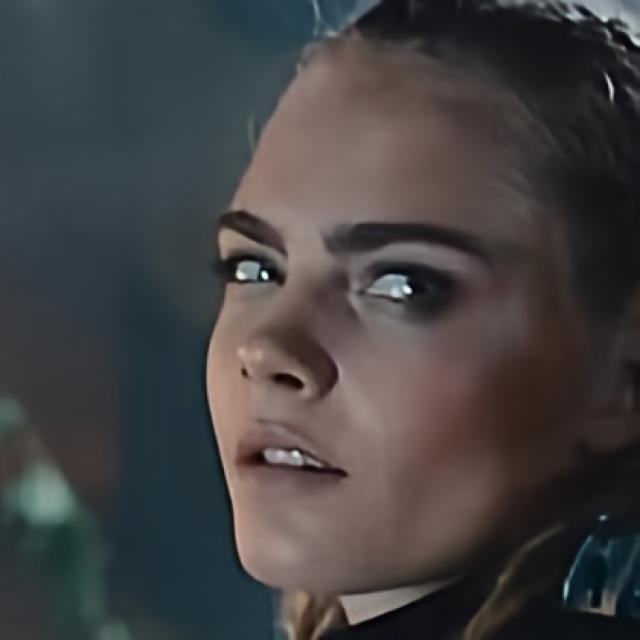neutral: (203, 11, 595, 595)
